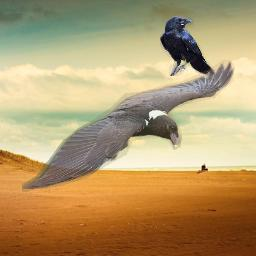Crow: (22, 60, 235, 192), (160, 16, 216, 76)
